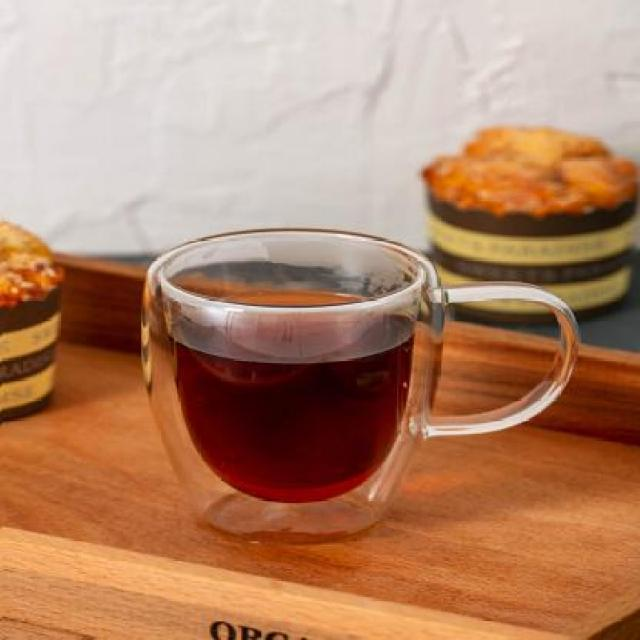taza: (136, 227, 580, 538)
